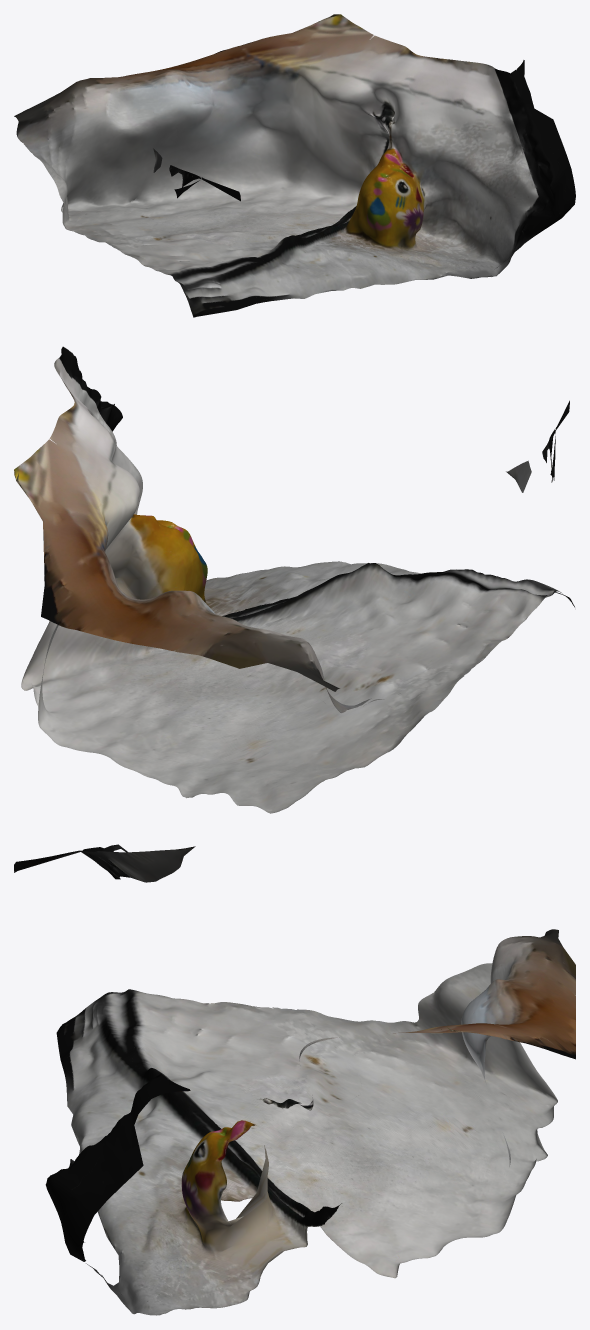
The picture shows the model from 3 angles, top to bottom: view 1: azimuth 30°, elevation 25°; view 2: azimuth 150°, elevation 25°; view 3: azimuth 270°, elevation 25°; orthographic projection. The views are drawn at different scales.
Bounding box in the file's own units: 0.7881 × 0.3685 × 0.7318.
Materials: 1 (1 with a texture image).
